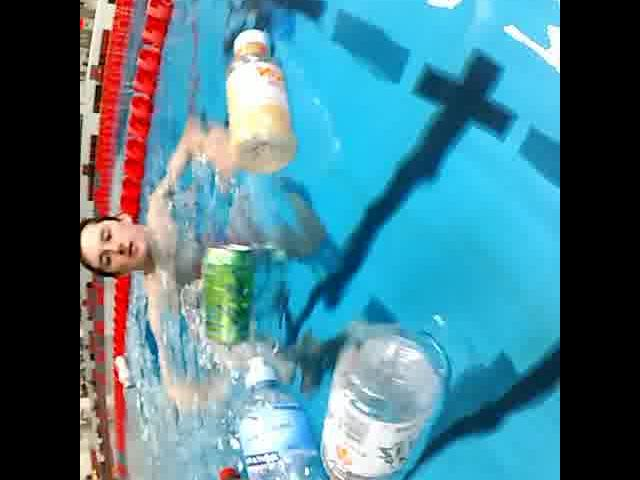Bottle: (317, 319, 461, 480), (234, 344, 368, 480), (223, 21, 303, 184), (212, 457, 290, 480)
Can: (196, 231, 258, 351)
